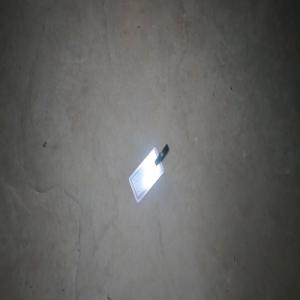LuggageTag: (127, 142, 169, 204)
